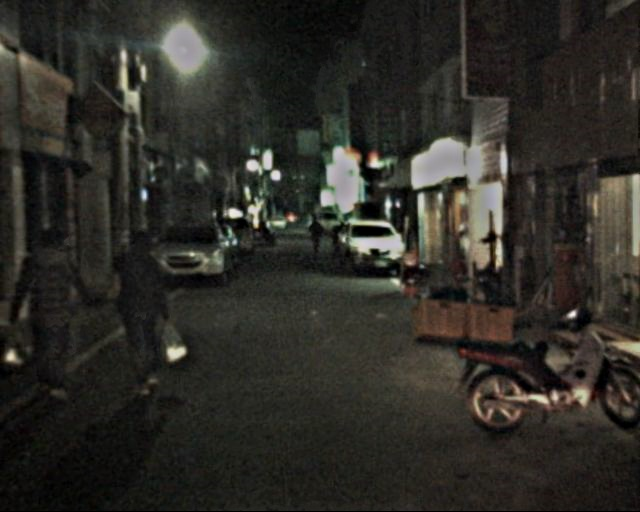person: (8, 221, 92, 400), (107, 223, 178, 404), (305, 214, 323, 256)
